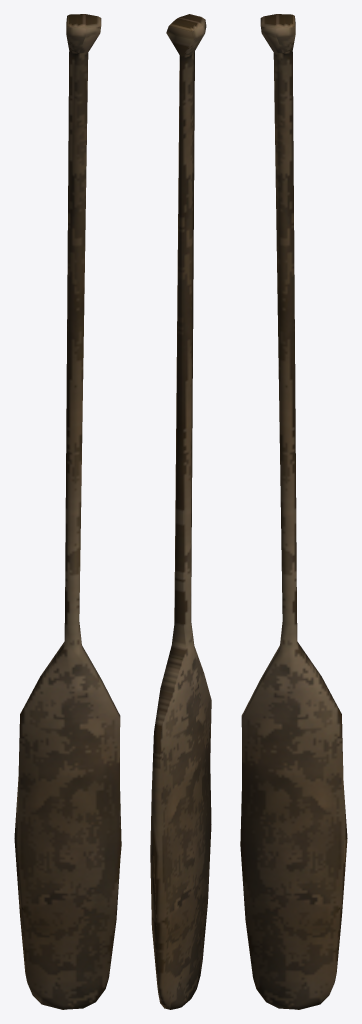
File: Boat01_No.fbx
3 views of the same model, side by side, from view 1: azimuth 90°, elevation 25°; view 2: azimuth 150°, elevation 25°; view 3: azimuth 270°, elevation 25° (orthographic).
Parts seen in each view (by area): view 1: Boat01_No; view 2: Boat01_No; view 3: Boat01_No.
Part boxes in pixels (x1=…): Boat01_No: x1=14, y1=14, x2=121, y2=1009; Boat01_No: x1=150, y1=14, x2=211, y2=1009; Boat01_No: x1=240, y1=14, x2=347, y2=1009.
Size of the model in its own units: 6.24 by 182 by 17.83.
